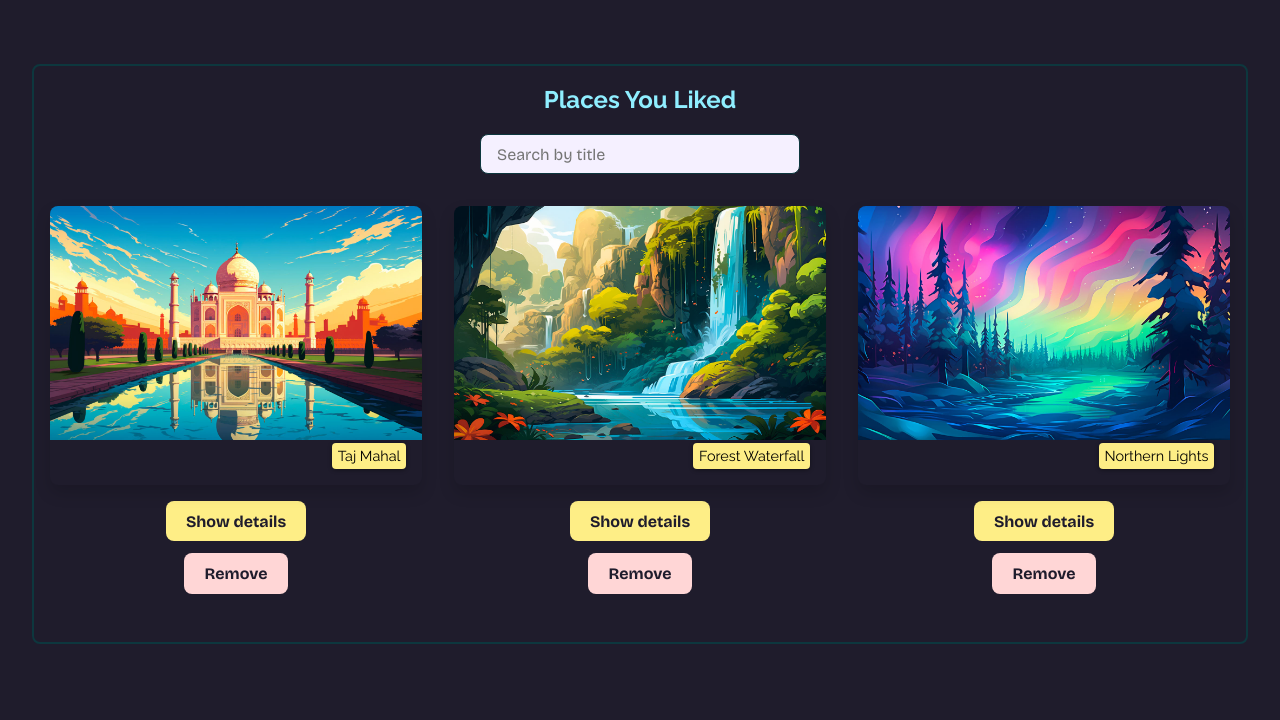
Test case: LikedPlaces search › S-4: a query with no matches shows the no-matches message and no list
Step 1. Type "zzz" into the search field → (640, 154), box top-left (480, 134), bottom-right (800, 174)
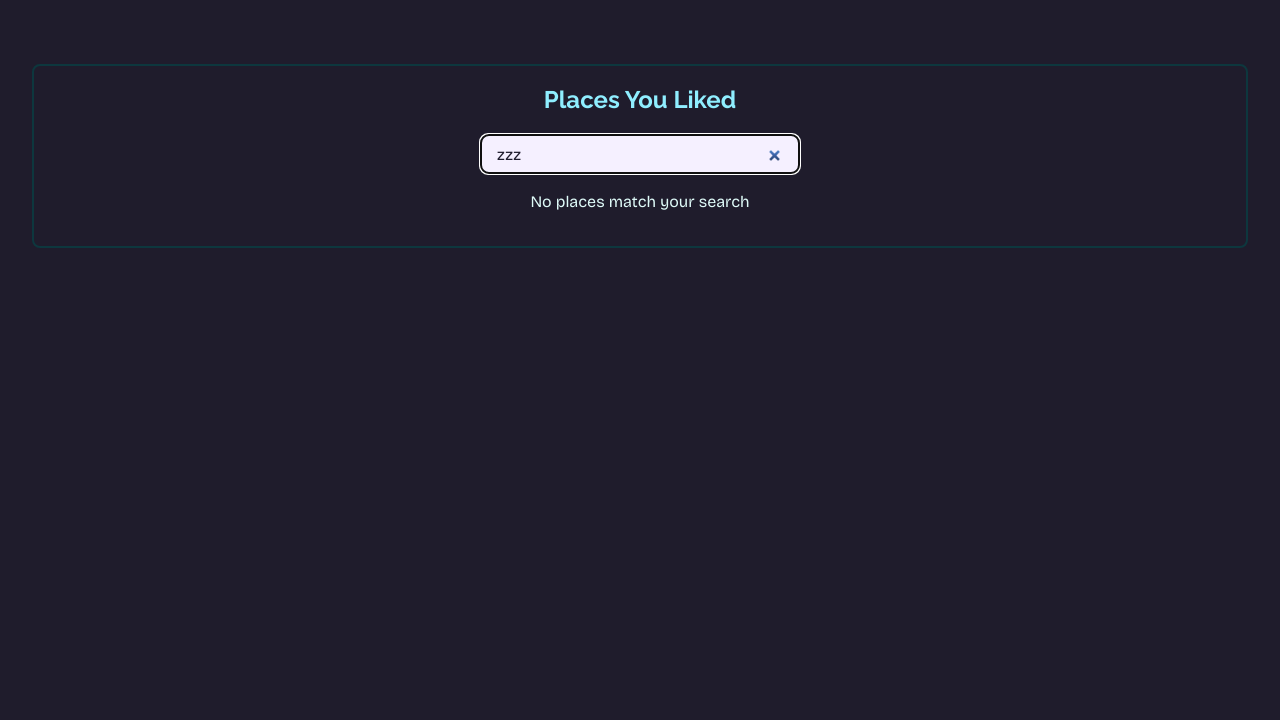
Expected: the text "No places match your search" is shown, top-left (530, 192), bottom-right (750, 211)
Expected: the list is gone
